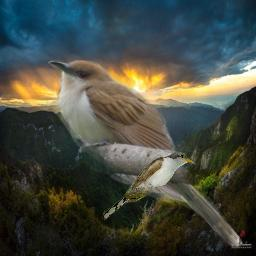Cuckoo: (48, 60, 242, 249), (100, 151, 197, 221)
